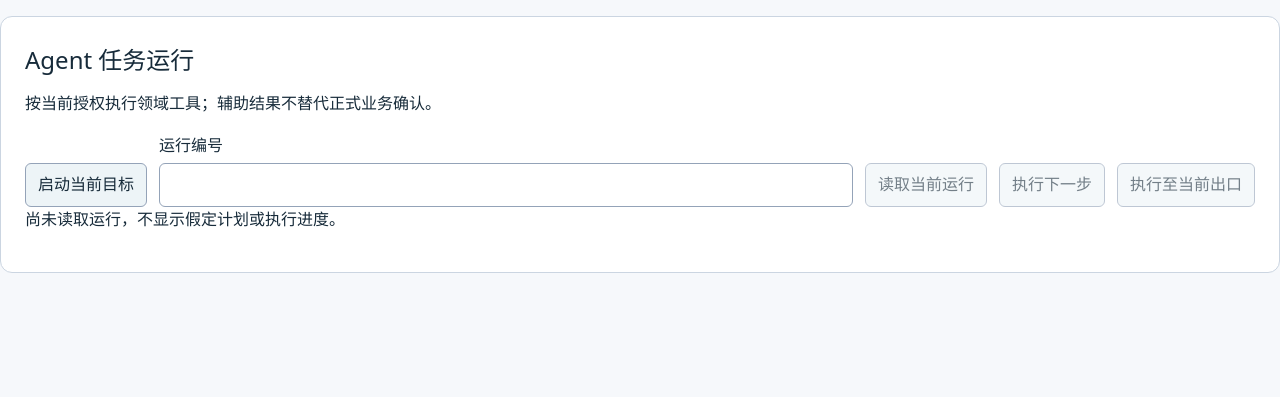
Test: optional browser receipt recovery › a failed clear after a rejection keeps the original packet and fails closed
The width and height of the screenshot is (1280, 397).
Click the button "启动当前目标": coordinates (86, 185) x1=25 y1=163 x2=147 y2=207
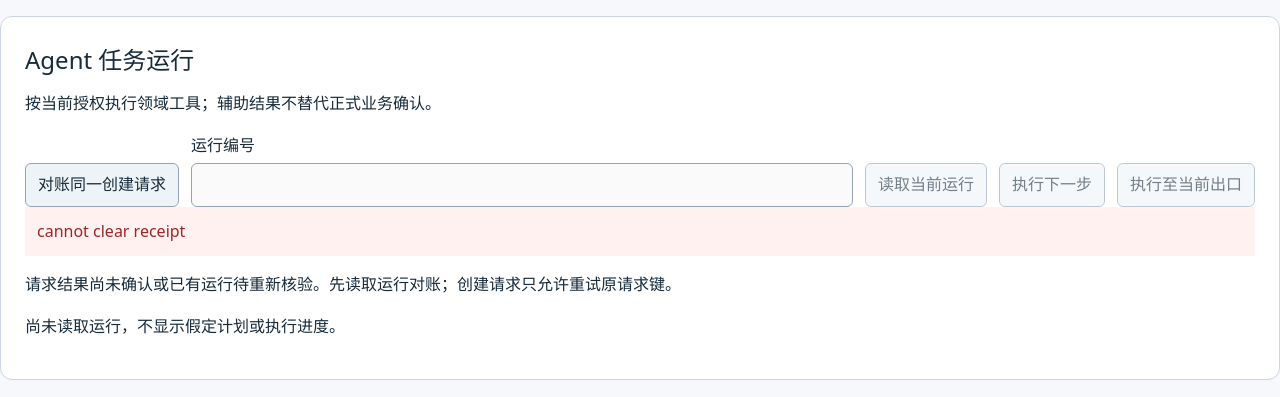
expect the text "cannot clear receipt" is shown: met, box x1=25 y1=207 x2=1255 y2=256
expect the button "对账同一创建请求" is shown: met, box x1=25 y1=163 x2=179 y2=207
